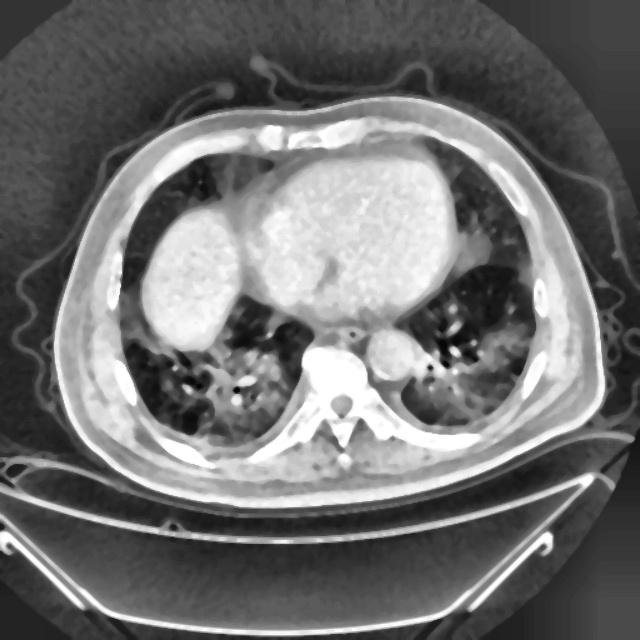covid: (53, 94, 605, 509)
